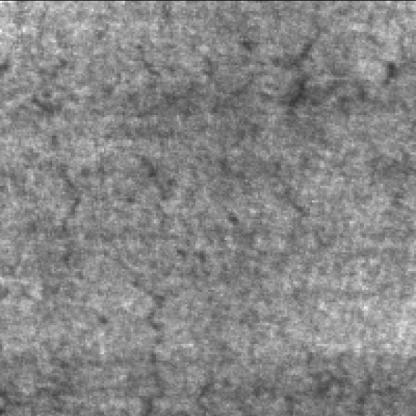crazing: (140, 6, 348, 119), (91, 150, 174, 410)
